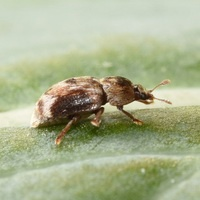insect: (31, 76, 171, 144)
